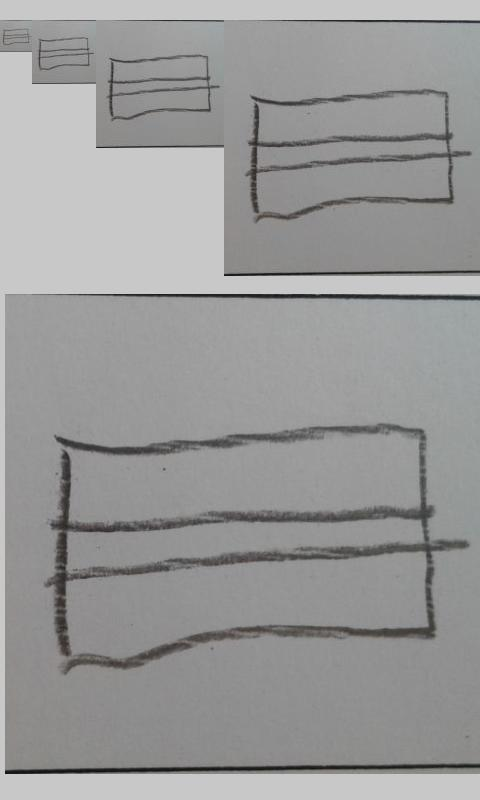list_view: (45, 422, 440, 672), (246, 88, 456, 220), (107, 53, 212, 120), (38, 37, 90, 71), (2, 28, 30, 46)
